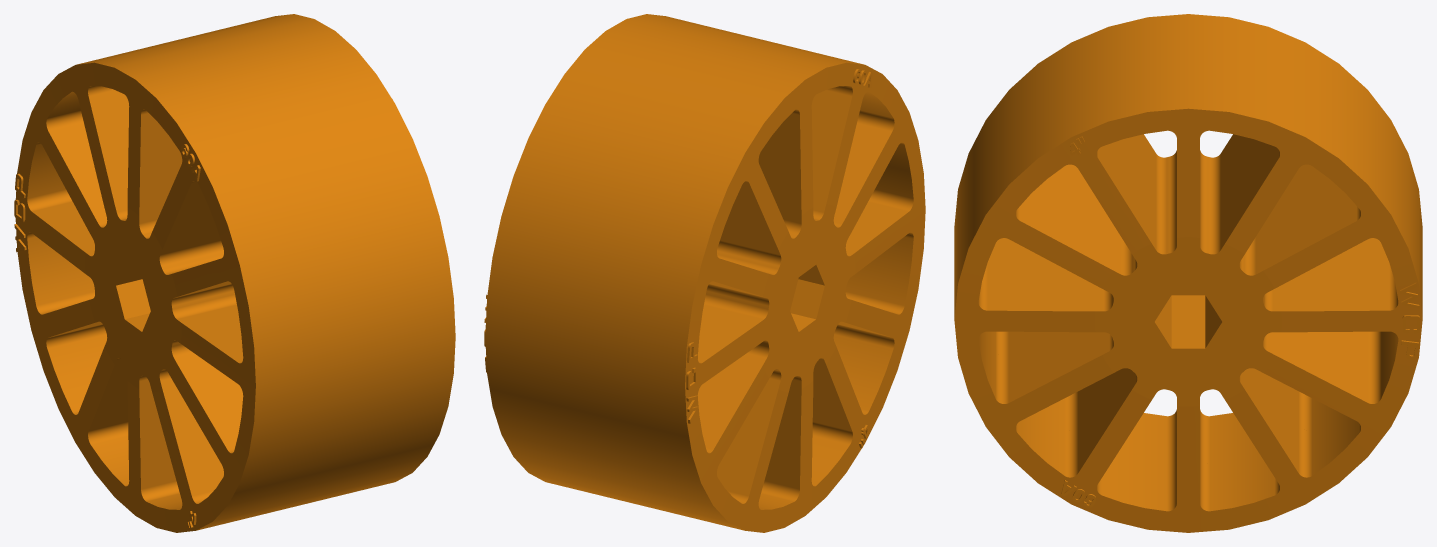
3 renders of one model, left to right at view 1: azimuth 30°, elevation 25°; view 2: azimuth 150°, elevation 25°; view 3: azimuth 270°, elevation 25°, orthographic. The views are drawn at different scales.
Parts seen in each view (by area): view 1: 4.000in x 1.000in Straight Flex Wheel (0.500in Hex) Overmold (×2), WCP-1293-001 Rev1:1; view 2: 4.000in x 1.000in Straight Flex Wheel (0.500in Hex) Overmold (×2), WCP-1293-001 Rev1:1; view 3: 4.000in x 1.000in Straight Flex Wheel (0.500in Hex) Overmold (×2), WCP-1293-001 Rev1:1.
Part boxes in pixels (x1,y1,x2,y2): 4.000in x 1.000in Straight Flex Wheel (0.500in Hex) Overmold (×2): [14, 14, 455, 532]; WCP-1293-001 Rev1:1: [112, 258, 154, 338]; 4.000in x 1.000in Straight Flex Wheel (0.500in Hex) Overmold (×2): [484, 14, 925, 532]; WCP-1293-001 Rev1:1: [786, 258, 828, 338]; 4.000in x 1.000in Straight Flex Wheel (0.500in Hex) Overmold (×2): [954, 14, 1422, 532]; WCP-1293-001 Rev1:1: [1148, 289, 1228, 354].
Bounding box in the file's own units: 0.0497 × 0.1016 × 0.1016.
